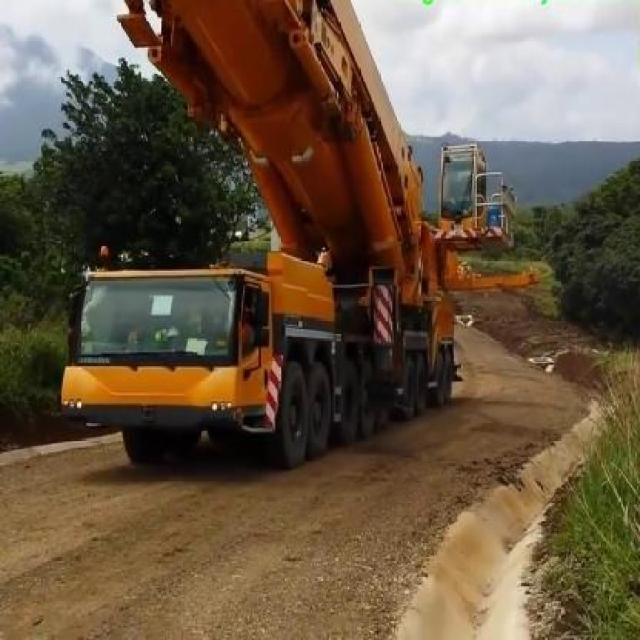Mobile Crane: (60, 1, 542, 467)
